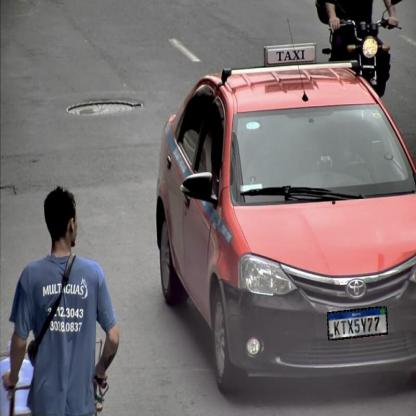PlacaM: (327, 306, 388, 340)
